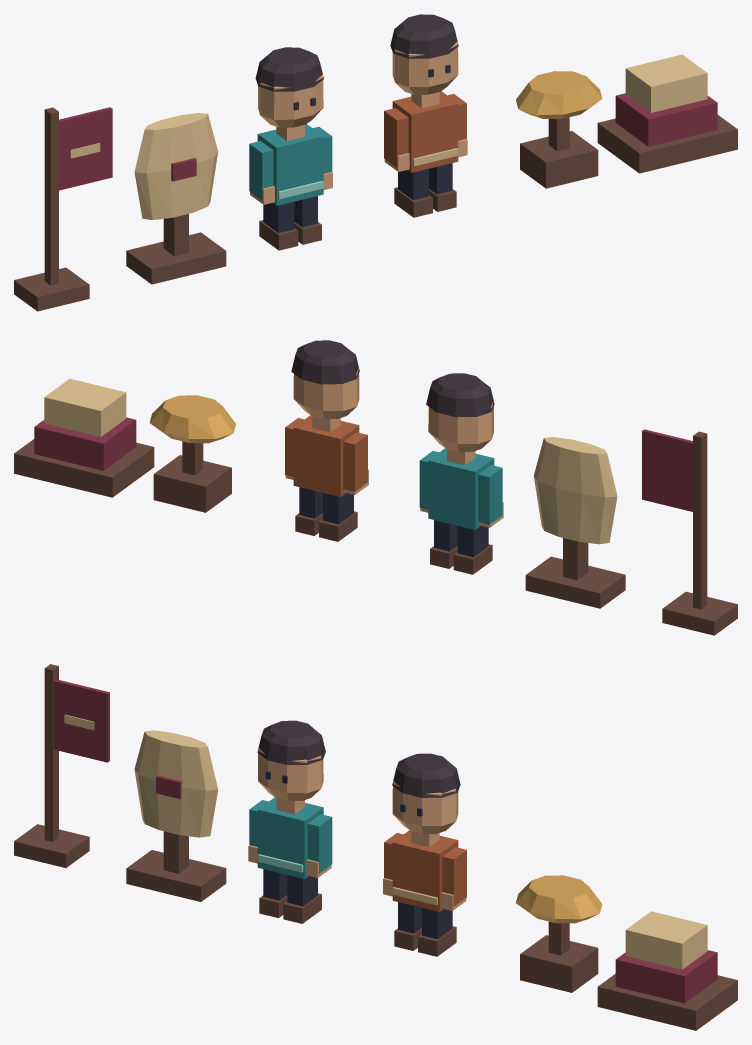
The model's file is ina-itto-games-model.obj.
3 renders of one model, top to bottom at view 1: azimuth 30°, elevation 25°; view 2: azimuth 150°, elevation 25°; view 3: azimuth 330°, elevation 25°, orthographic.
Parts seen in each view (by area): view 1: FestivalGames; view 2: FestivalGames; view 3: FestivalGames.
Part boxes in pixels (x1,y1,x2,y2): FestivalGames: [14, 14, 737, 311]; FestivalGames: [14, 340, 737, 635]; FestivalGames: [14, 664, 737, 1030].
Bounding box in the file's own units: 6.11 × 1.57 × 0.64.
